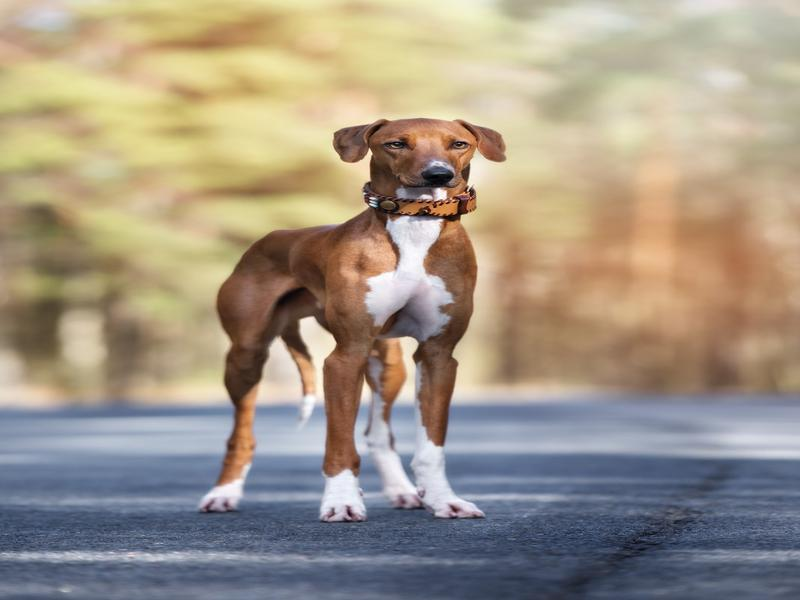dog_stand: (195, 115, 513, 532)
